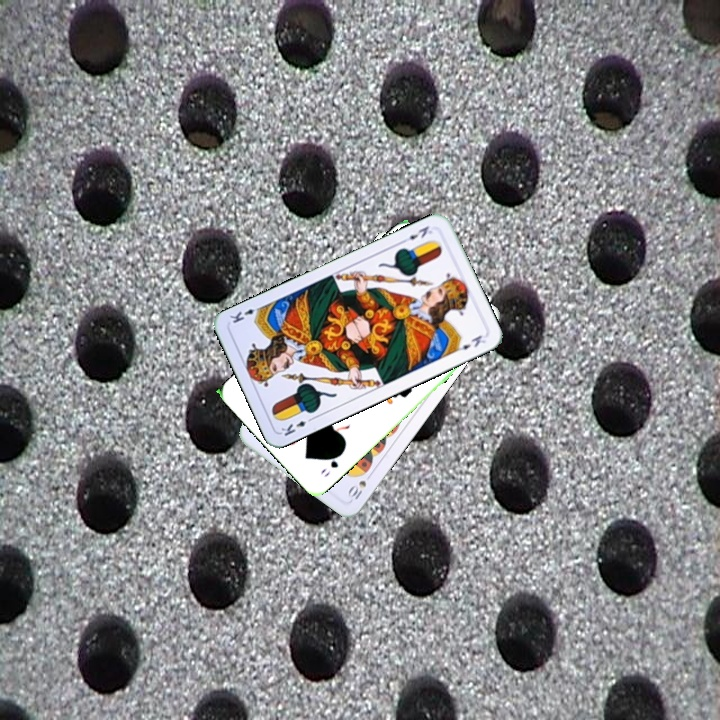EK: (277, 413, 317, 439), (398, 222, 435, 246)
GO: (316, 448, 345, 480)
S10: (343, 468, 375, 502)
